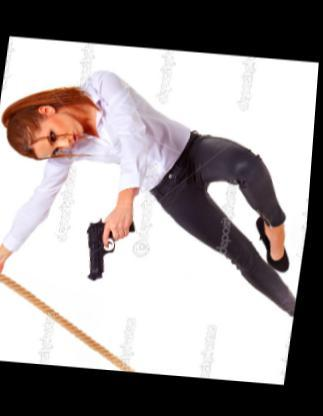pistol: (80, 214, 139, 284)
